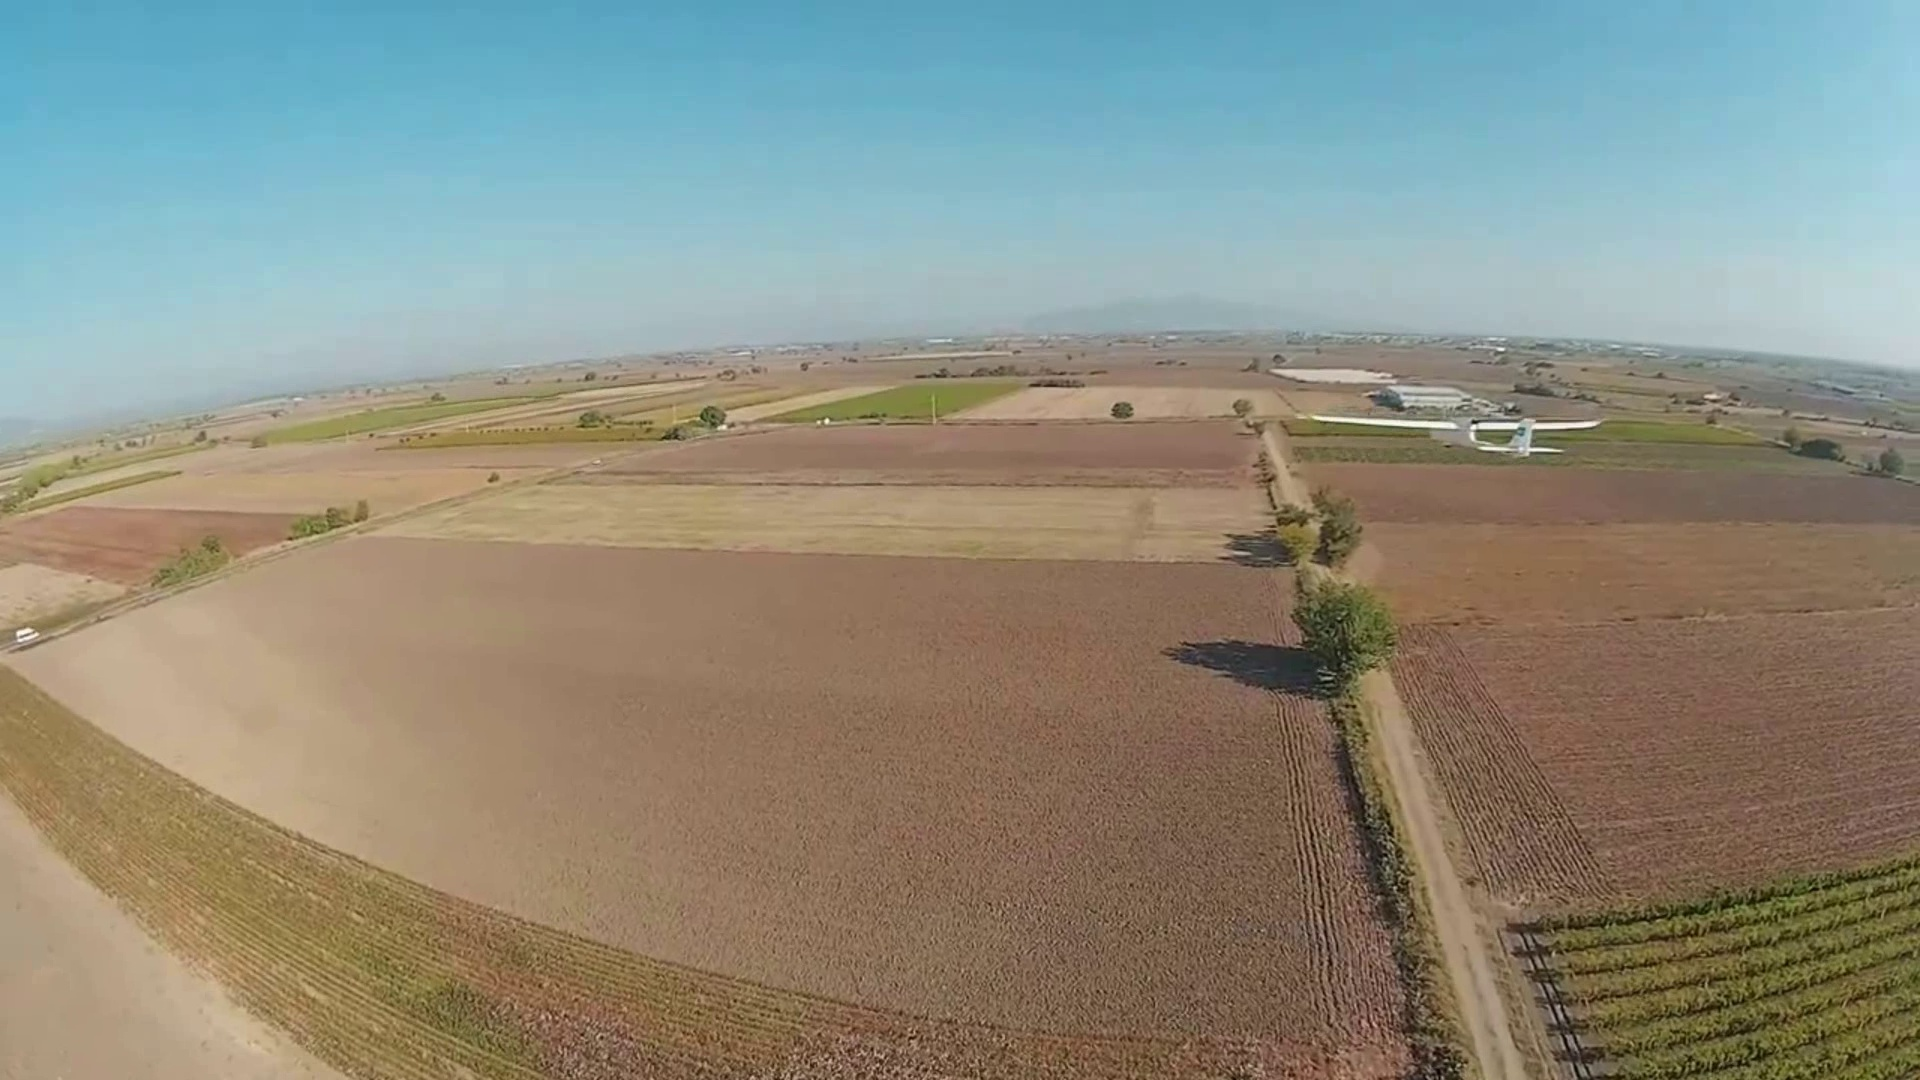airplane: (1249, 363, 1604, 443)
